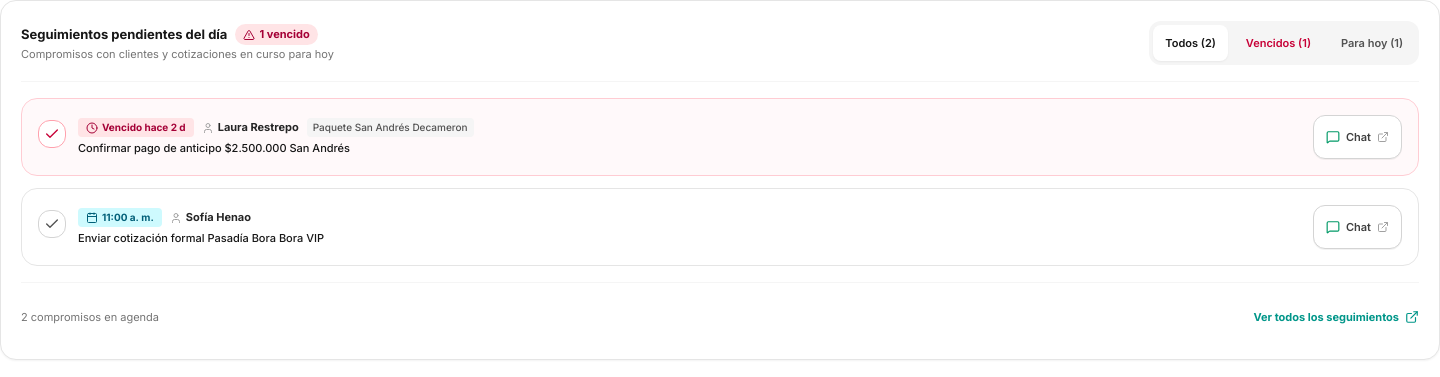
Scenario: BloqueSeguimientosDia (T-020) - Compromisos diarios del asesor › 4. Filtra por pestaña vencidos y por hoy
Note: Click en vencidos
Click the button with test id "filtro-seguimientos-vencidos" at (1278, 43), box [1234,25,1323,61]
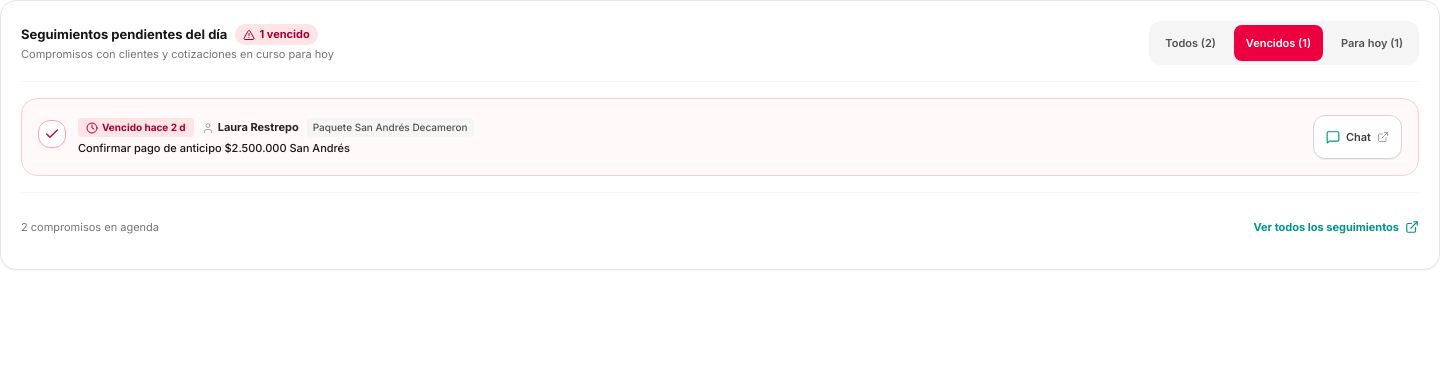
Check: the text "Confirmar pago de anticipo $2.500.000 San Andrés" is shown, box [78,141,350,155]
Check: the text "Enviar cotización formal Pasadía Bora Bora" is gone
Note: Click en hoy
Click the button with test id "filtro-seguimientos-hoy" at (1372, 43), box [1329,25,1415,61]
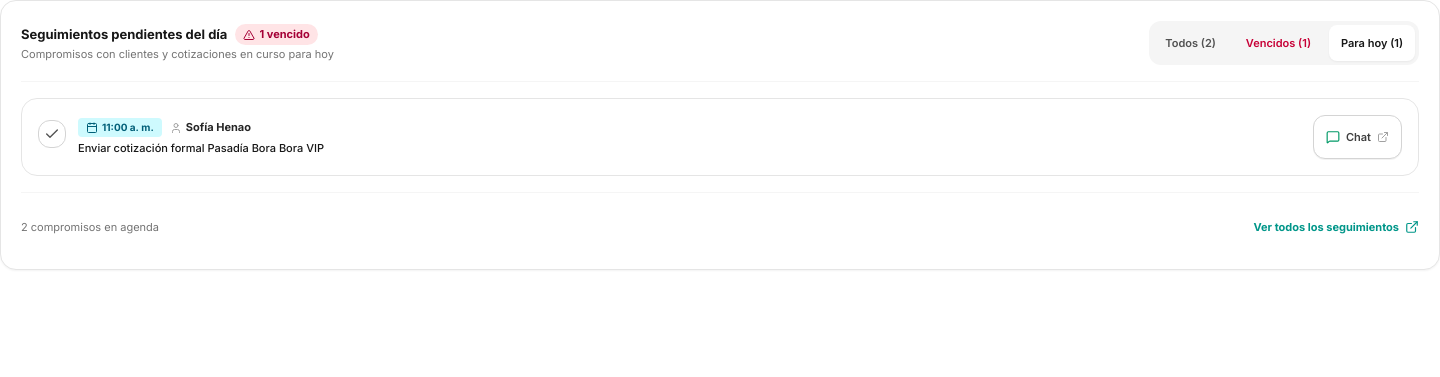
Check: the text "Confirmar pago de anticipo" is gone
Check: the text "Enviar cotización formal Pasadía Bora Bora VIP" is shown, box [78,141,324,155]
